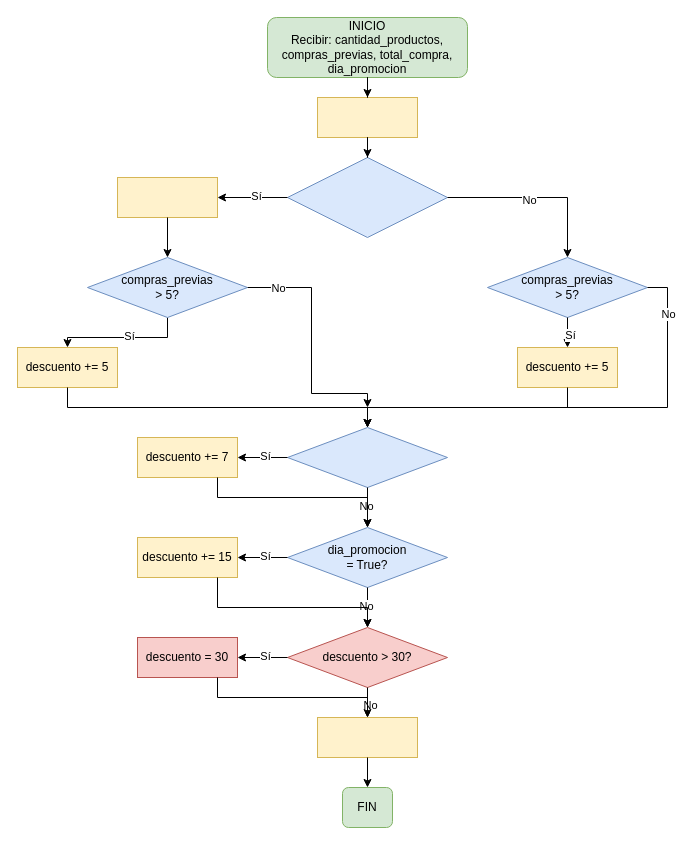
Image size: 693x845. Some labels were removed from this diagram. The centre of each missing label's shape, as x and y in pixels:
"cantidad_productos > 10?" belongs at (x=367, y=197).
"descuento += 10" belongs at (x=167, y=197).
"descuento = 0" belongs at (x=367, y=117).
"Retornar descuento" belongs at (x=367, y=737).
"total_compra > 500?" belongs at (x=367, y=457).
